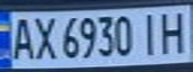0: (112, 12, 139, 57)
3: (97, 12, 118, 59)
6: (57, 14, 81, 61)
9: (78, 13, 100, 60)
A: (6, 14, 36, 61)
H: (154, 8, 193, 55)
I: (136, 10, 163, 56)
X: (30, 14, 57, 61)
